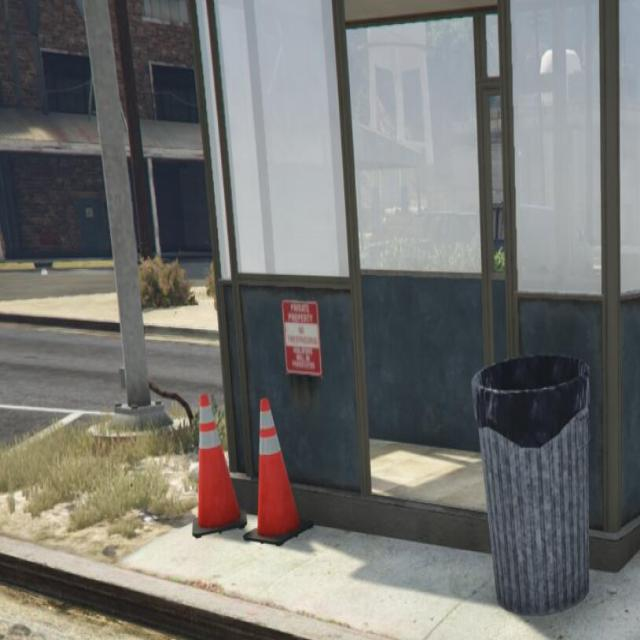ash bin: (474, 352, 593, 611)
pole: (79, 2, 151, 406)
reflective_cone: (239, 397, 314, 544), (188, 393, 248, 533)
